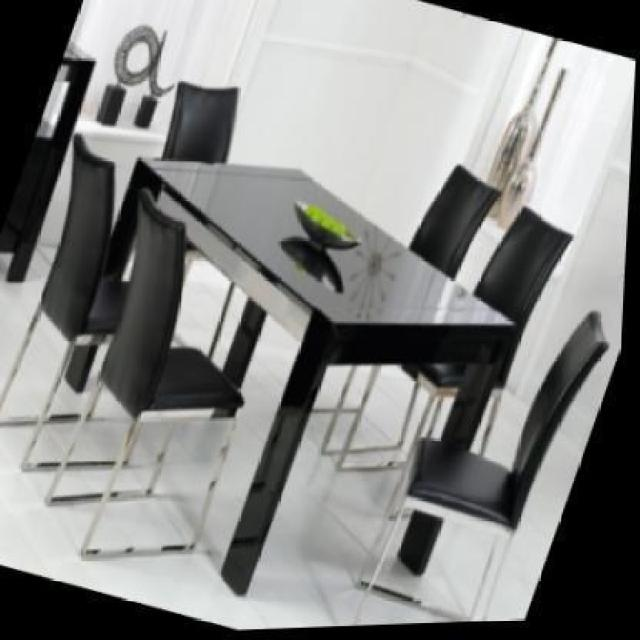tables: (132, 154, 517, 597)
